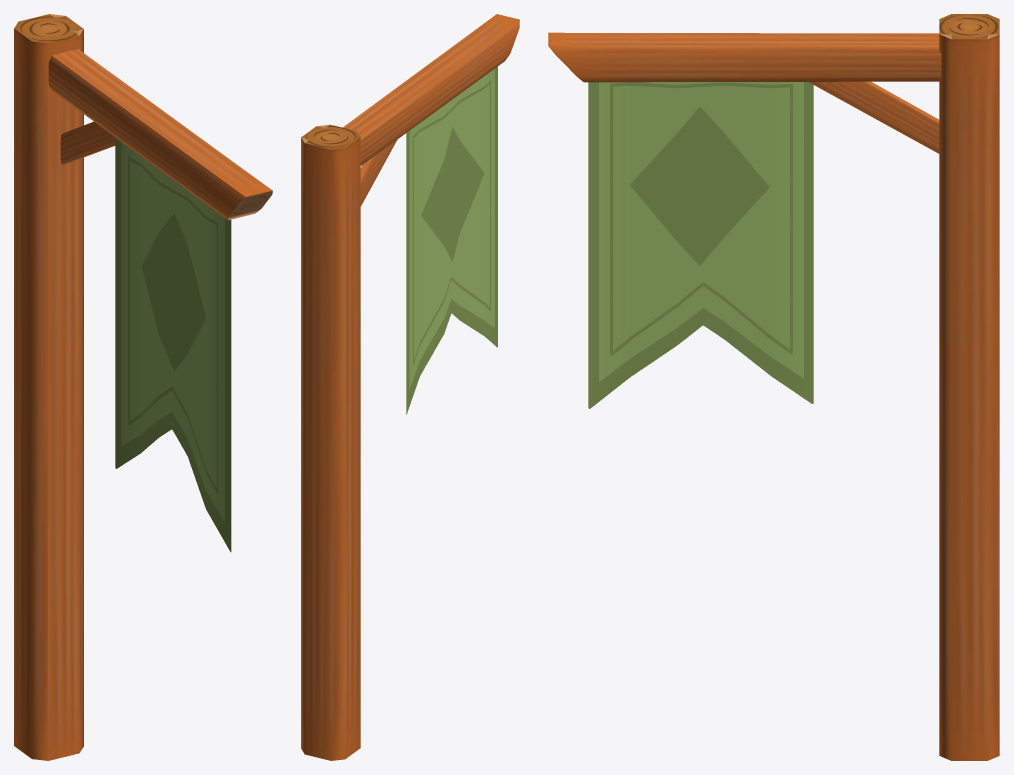
The model's file is Gum Wood Flag Post Hand.fbx.
The picture shows the model from 3 angles, left to right: view 1: azimuth 30°, elevation 25°; view 2: azimuth 150°, elevation 25°; view 3: azimuth 270°, elevation 25°; orthographic projection. The views are drawn at different scales.
Parts seen in each view (by area): view 1: FencePost (1), Flag (2); view 2: FencePost (1), Flag (2); view 3: FencePost (1), Flag (2).
Boxes of the visible parts, x1,y1,x2,y2 form: FencePost (1): [14, 14, 272, 760]; Flag (2): [115, 137, 231, 551]; FencePost (1): [301, 14, 519, 760]; Flag (2): [406, 66, 497, 414]; FencePost (1): [548, 14, 999, 760]; Flag (2): [588, 82, 813, 408].
Size of the model in its own units: 0.1669 by 2.21 by 1.25.
